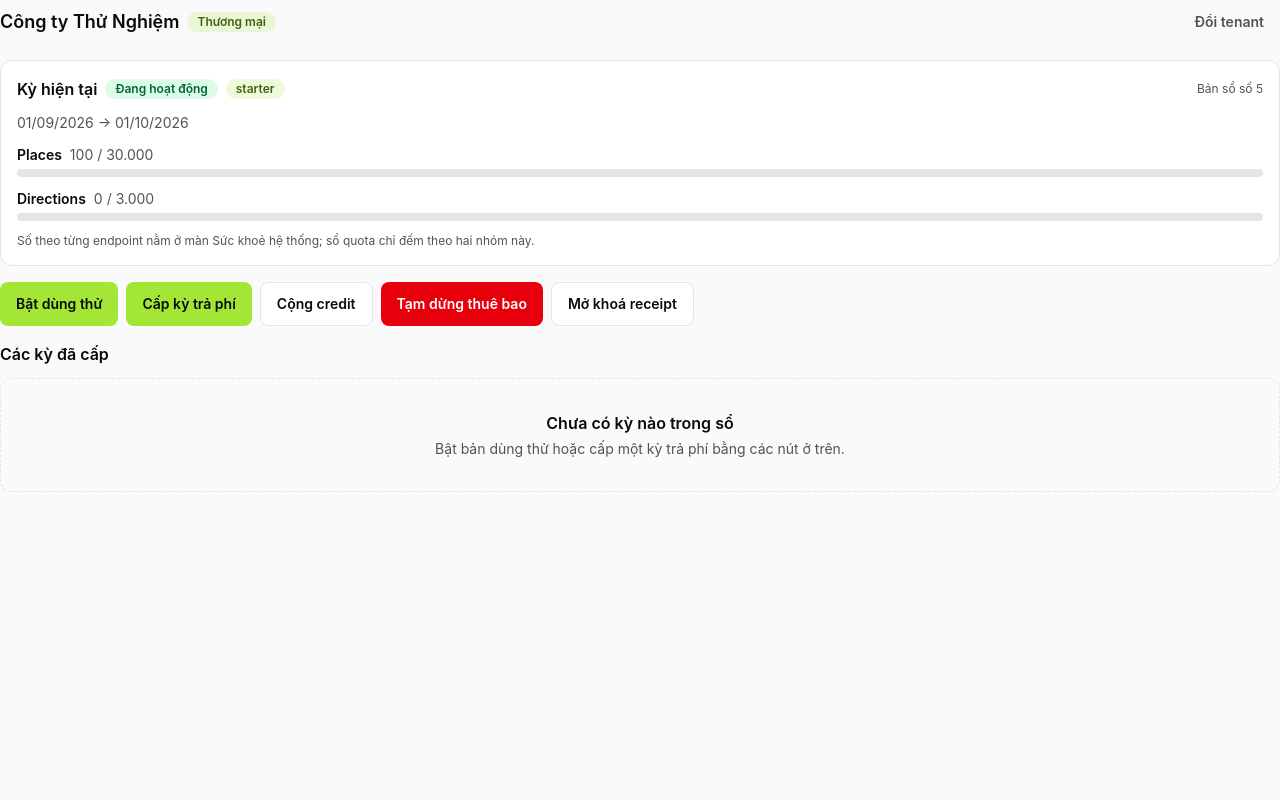
Test case: BillingPage › hết 5 giây → gửi thật và hiện biên lai kèm mã thao tác
The image size is (1280, 800).
Click the button "Bật dùng thử": (59,304) [0,282,118,326]
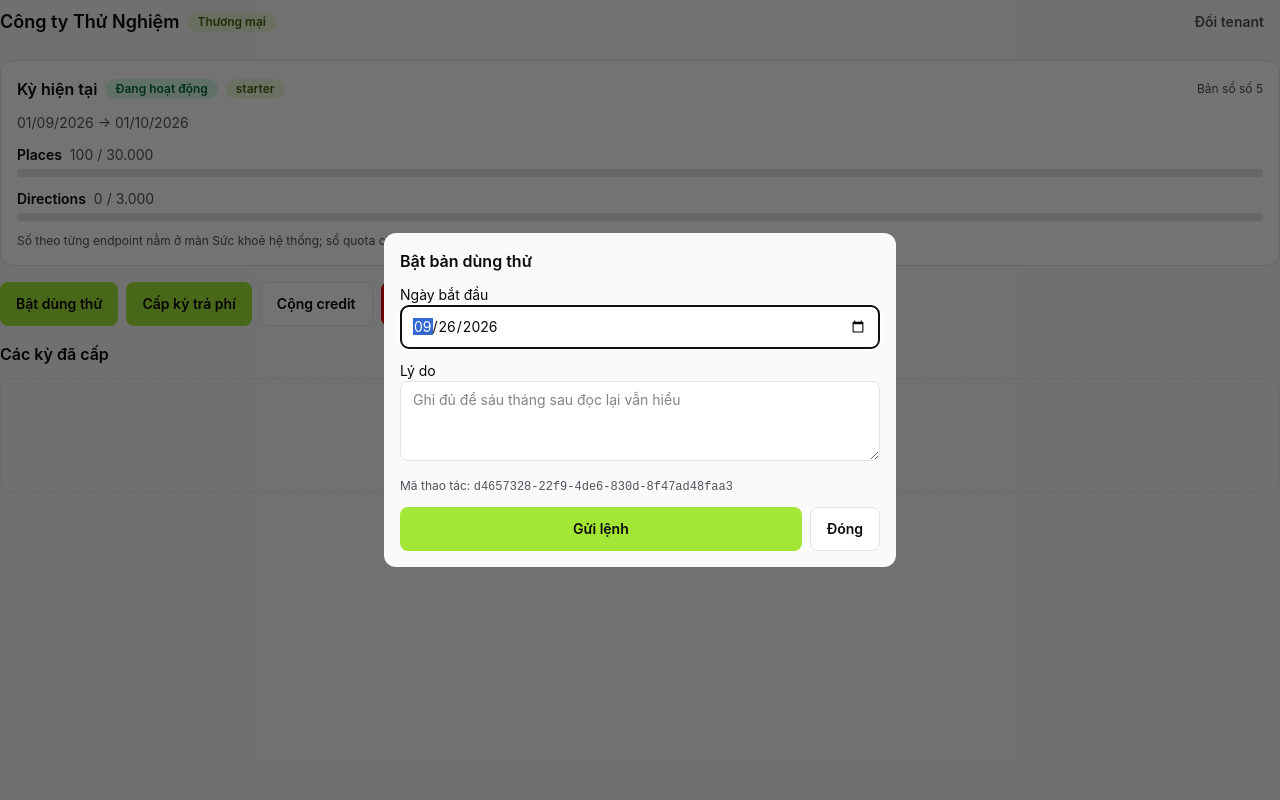
In the text box labelled "Lý do": (640,421) [400,381,880,461], type "khách xin dùng thử"
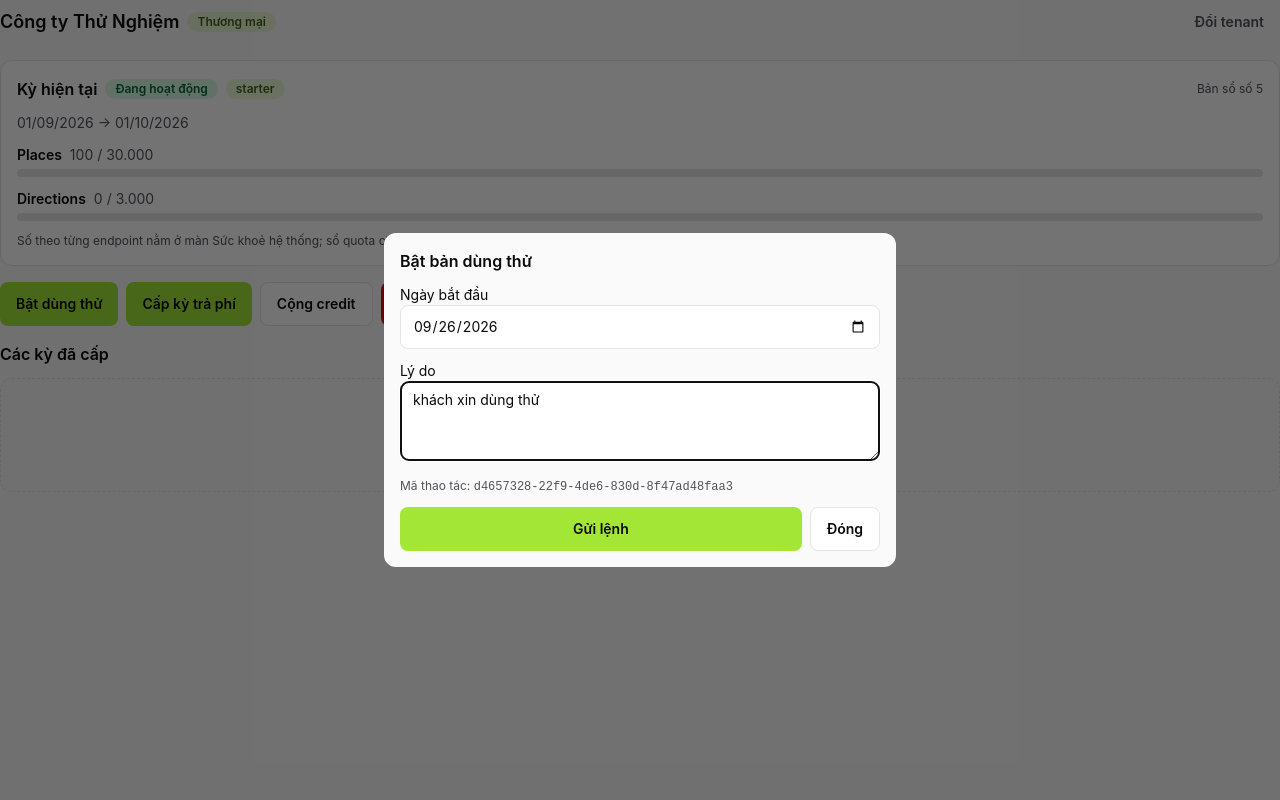
Click the button "Gửi lệnh": (601,529) [400,507,802,551]
Wait 6000 ms
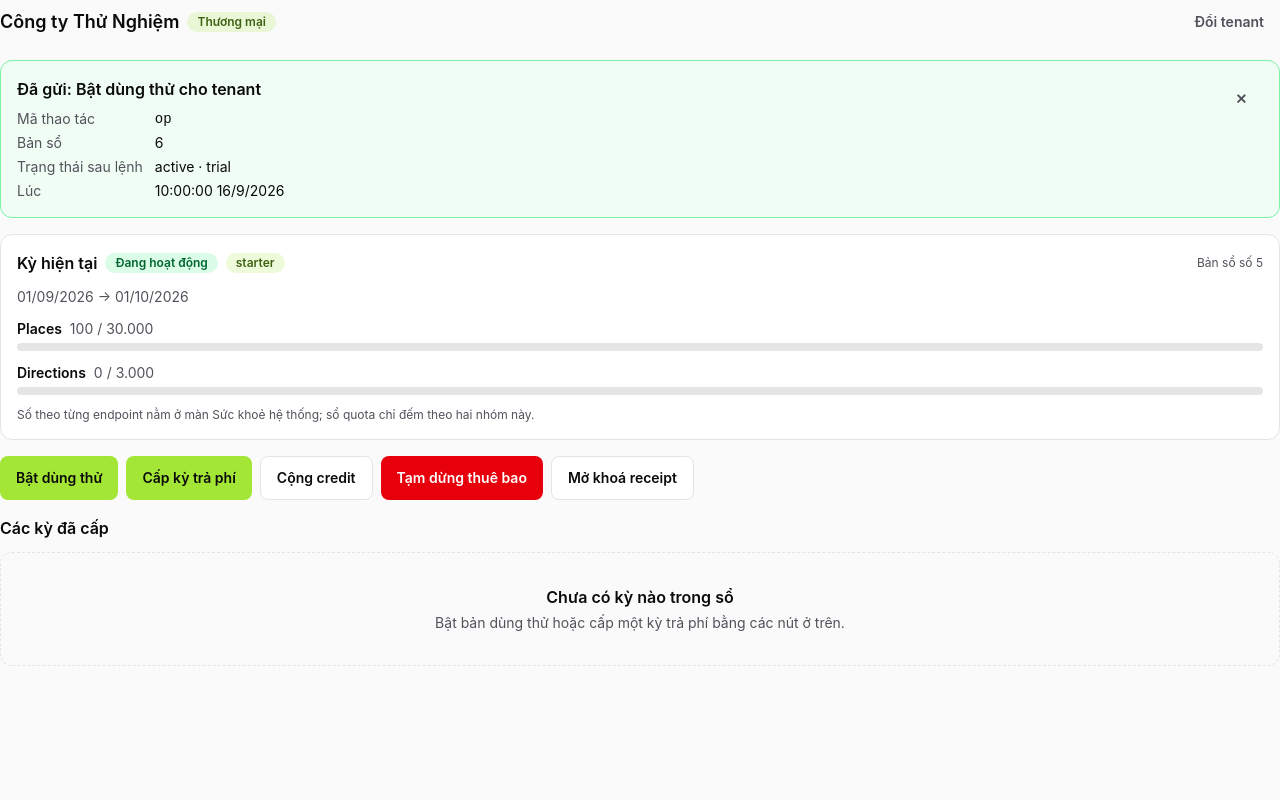
Expected: the text "Đã gửi: Bật dùng thử cho tenant" is shown, [17,79,261,99]
